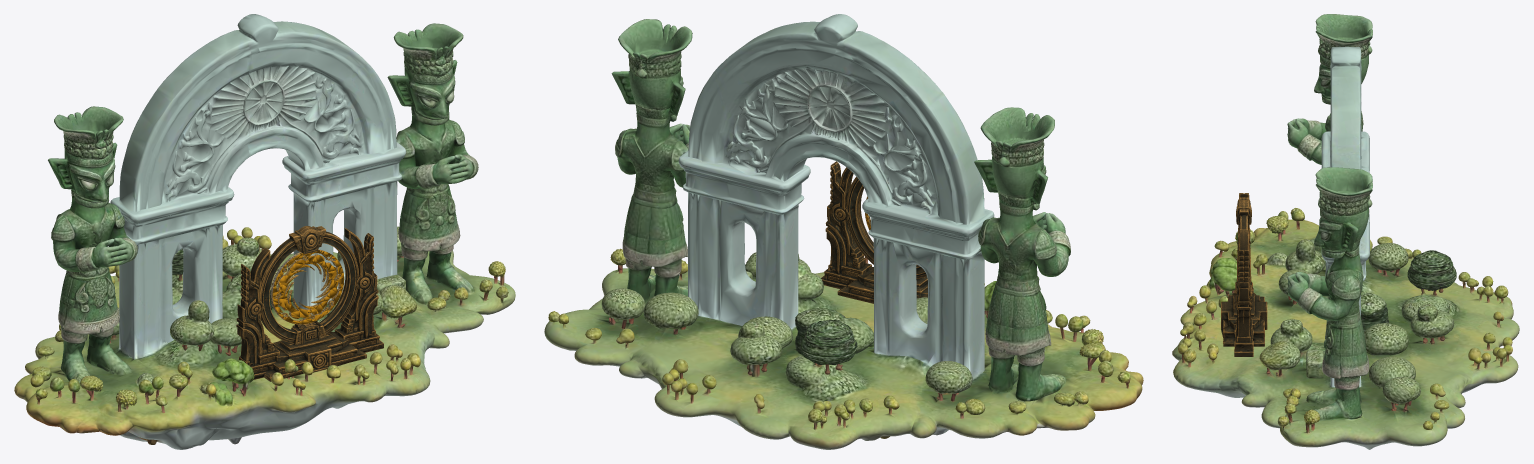
File: 15-civilization-gate.glb
The picture shows the model from 3 angles, left to right: view 1: azimuth 30°, elevation 25°; view 2: azimuth 150°, elevation 25°; view 3: azimuth 270°, elevation 25°; orthographic projection. The views are drawn at different scales.
Visible parts, largest first — view 1: tripo_node_bbcc85b6-3ad8-422b-b677-e2766067ee58, Meshy_AI_Aureate_Vortex_Gate_0817200025_texture, Meshy_AI_Golden_Vortex_Emblem_0817192120_texture; view 2: tripo_node_bbcc85b6-3ad8-422b-b677-e2766067ee58, Meshy_AI_Aureate_Vortex_Gate_0817200025_texture; view 3: tripo_node_bbcc85b6-3ad8-422b-b677-e2766067ee58, Meshy_AI_Aureate_Vortex_Gate_0817200025_texture.
Part boxes in pixels (x1,y1,x2,y2): tripo_node_bbcc85b6-3ad8-422b-b677-e2766067ee58: [14, 14, 515, 449]; Meshy_AI_Aureate_Vortex_Gate_0817200025_texture: [236, 226, 383, 381]; Meshy_AI_Golden_Vortex_Emblem_0817192120_texture: [270, 249, 344, 324]; tripo_node_bbcc85b6-3ad8-422b-b677-e2766067ee58: [544, 14, 1143, 449]; Meshy_AI_Aureate_Vortex_Gate_0817200025_texture: [821, 161, 927, 303]; tripo_node_bbcc85b6-3ad8-422b-b677-e2766067ee58: [1172, 14, 1519, 449]; Meshy_AI_Aureate_Vortex_Gate_0817200025_texture: [1221, 193, 1267, 356].
Size of the model in its own units: 6.5 by 4.94 by 4.33.
3 materials, 3 textured.
